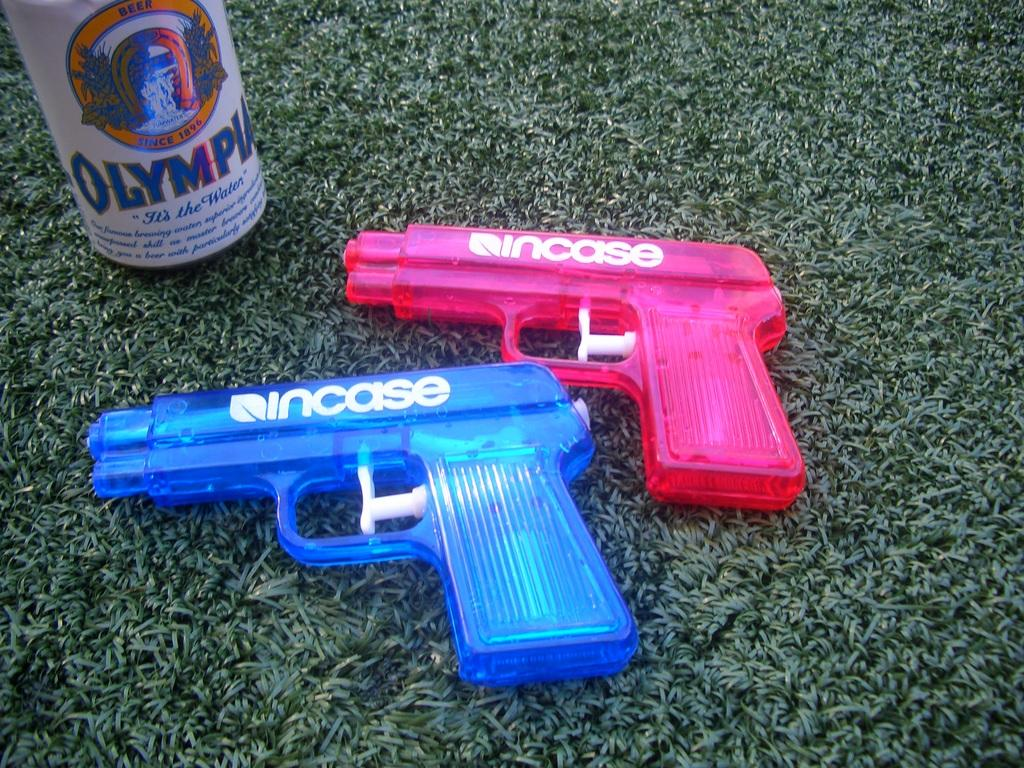Handgun: (84, 362, 636, 686), (340, 222, 811, 513)
